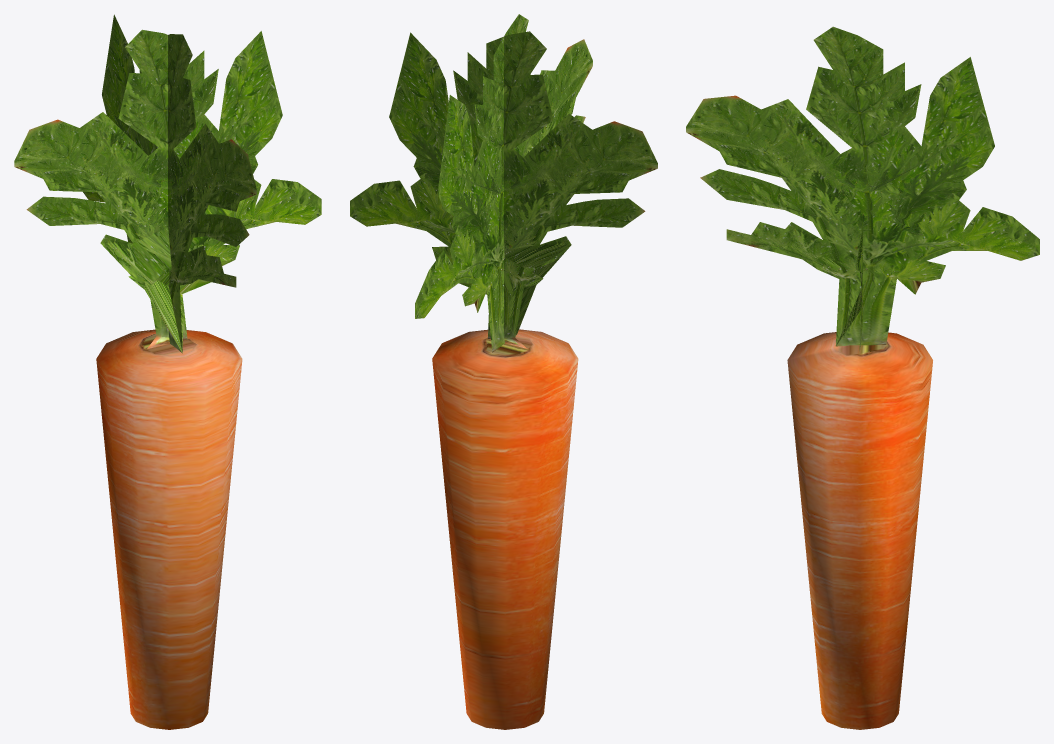
File: Carrot_v3_m_Z3G.obj
3 views of the same model, side by side, from view 1: azimuth 30°, elevation 25°; view 2: azimuth 150°, elevation 25°; view 3: azimuth 270°, elevation 25° (orthographic).
Parts seen in each view (by area): view 1: default; view 2: default; view 3: default.
Part boxes in pixels (x1=…): default: x1=14, y1=14, x2=321, y2=729; default: x1=350, y1=14, x2=657, y2=729; default: x1=686, y1=26, x2=1039, y2=729.
Bounding box in the file's own units: 466 × 1018 × 466.
